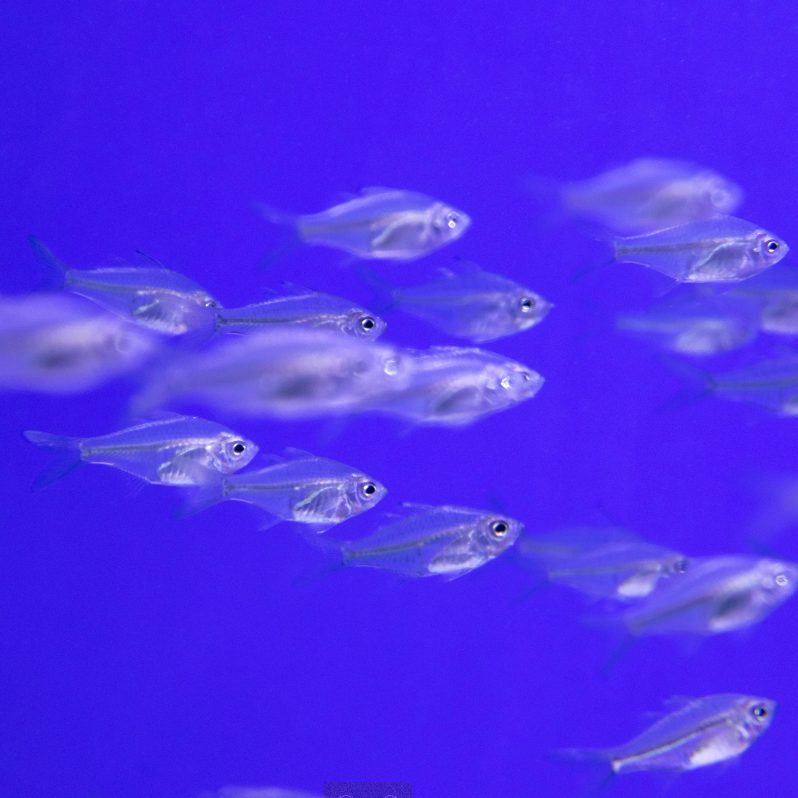fishSmall: (116, 324, 402, 436), (588, 549, 797, 676), (548, 692, 776, 793), (20, 408, 258, 502), (22, 233, 225, 337), (250, 180, 473, 273), (295, 501, 526, 590), (565, 208, 791, 297), (168, 446, 392, 535), (358, 260, 557, 347), (152, 282, 390, 354), (2, 295, 157, 398), (383, 341, 547, 432), (493, 542, 699, 609), (664, 348, 798, 420)
